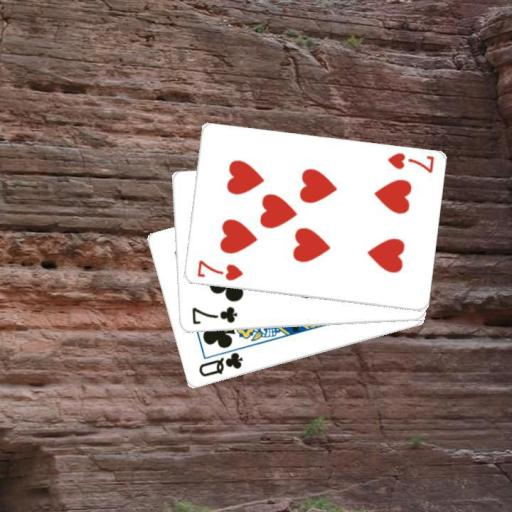7C: (189, 304, 239, 327)
7H: (384, 149, 435, 175), (194, 258, 245, 283)
QC: (195, 349, 245, 379)
